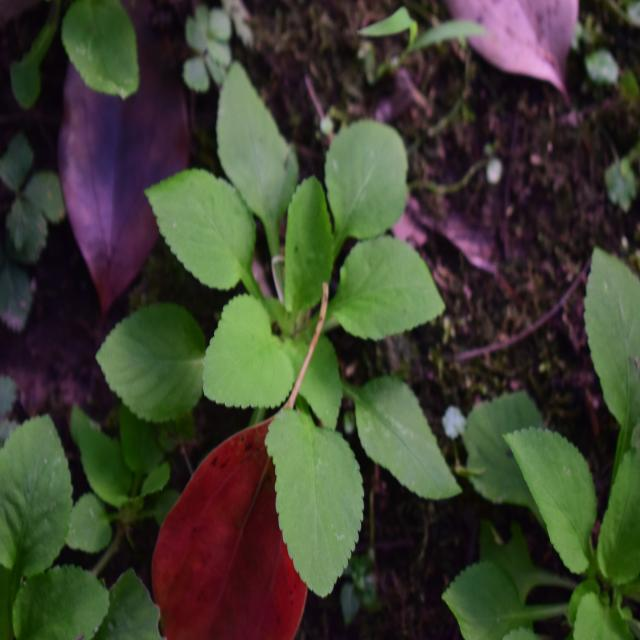Viola: (146, 75, 434, 551)
